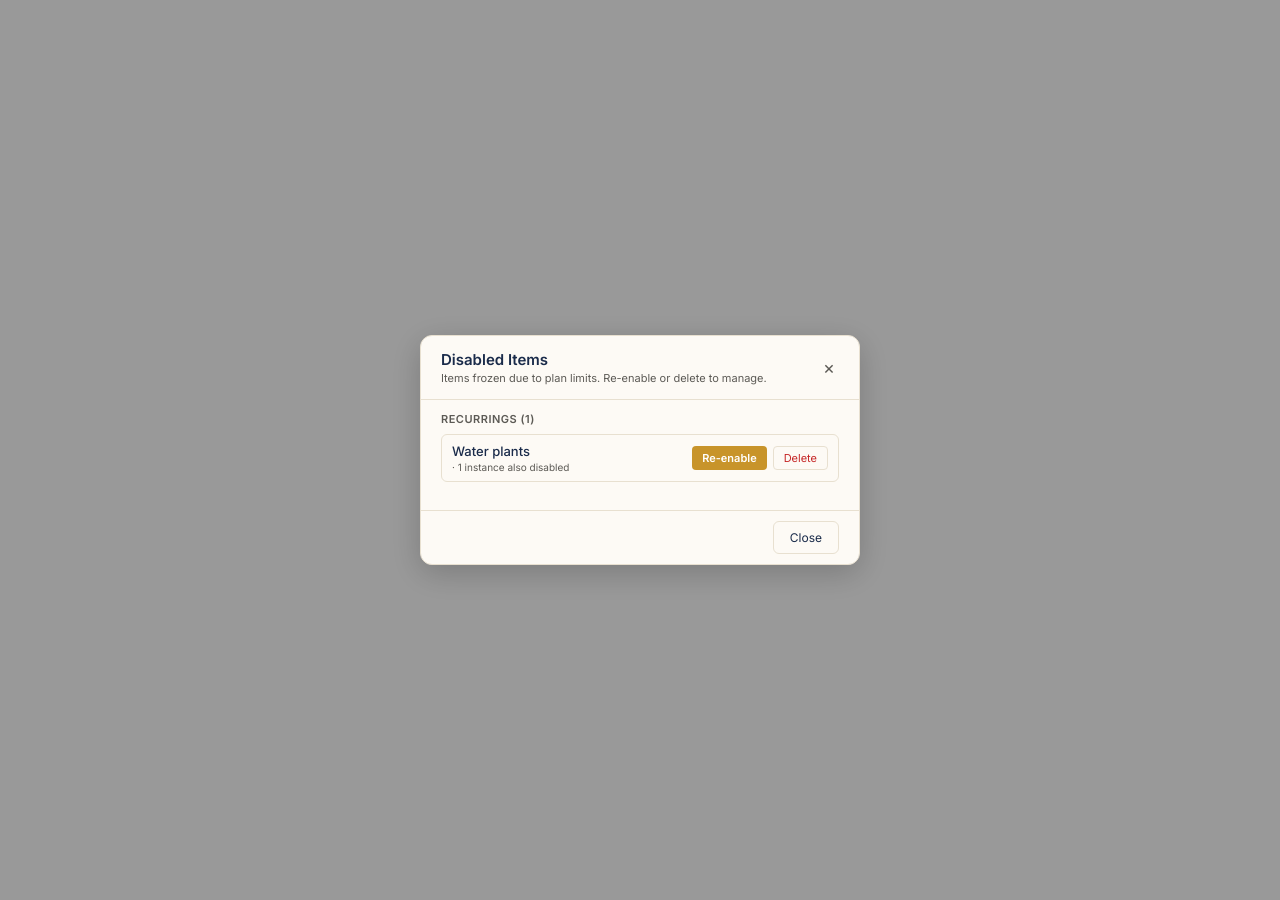
Scenario: DisabledItemsPanel › deletes a recurring template with ?cascade=recurring
The image size is (1280, 900).
Check: the text "Recurrings (1)" is shown, box [441,412,535,426]
Click the button "Delete".
click(800, 458)  # box [773,446,828,470]
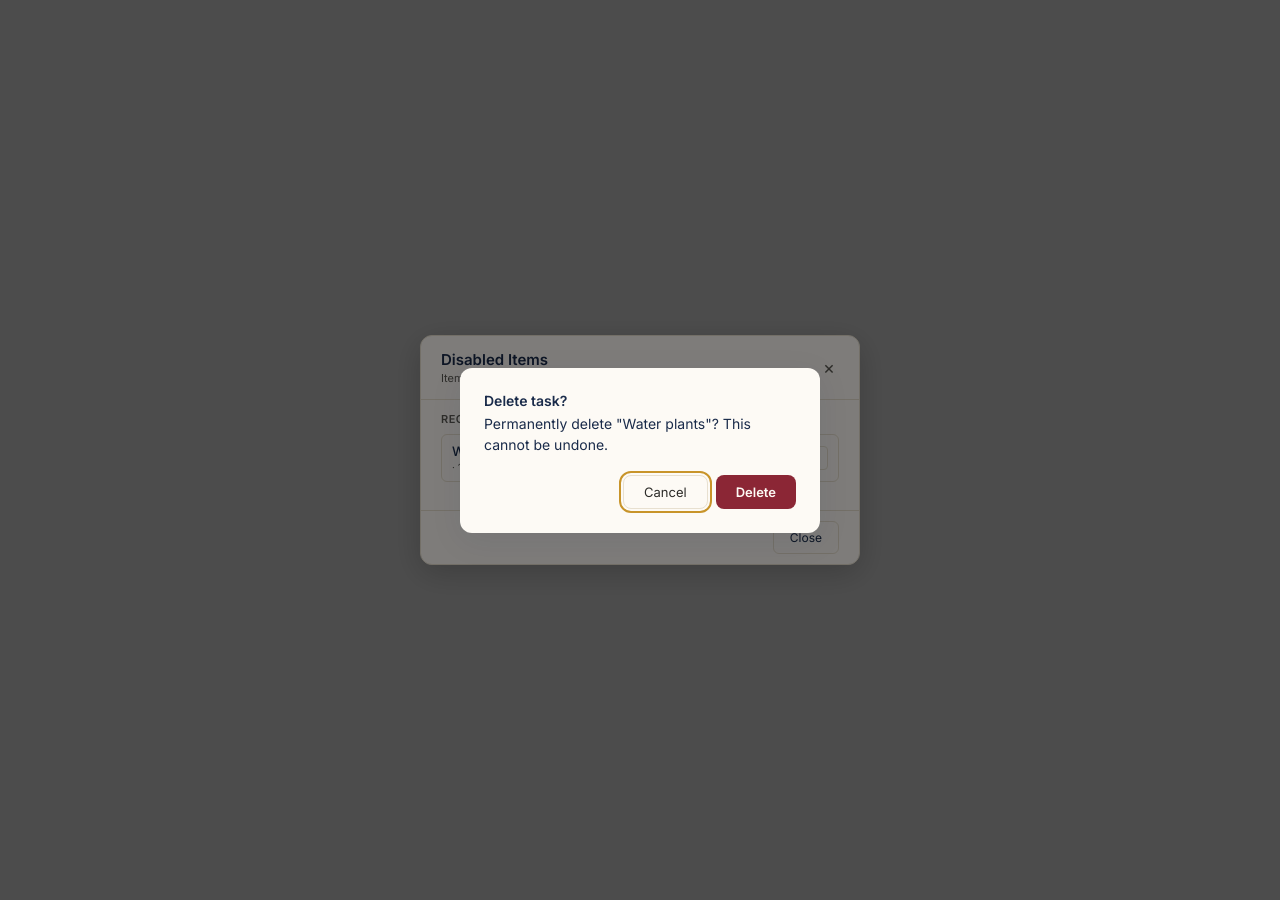
Click the button "Delete".
click(756, 492)  # box [716,474,796,508]
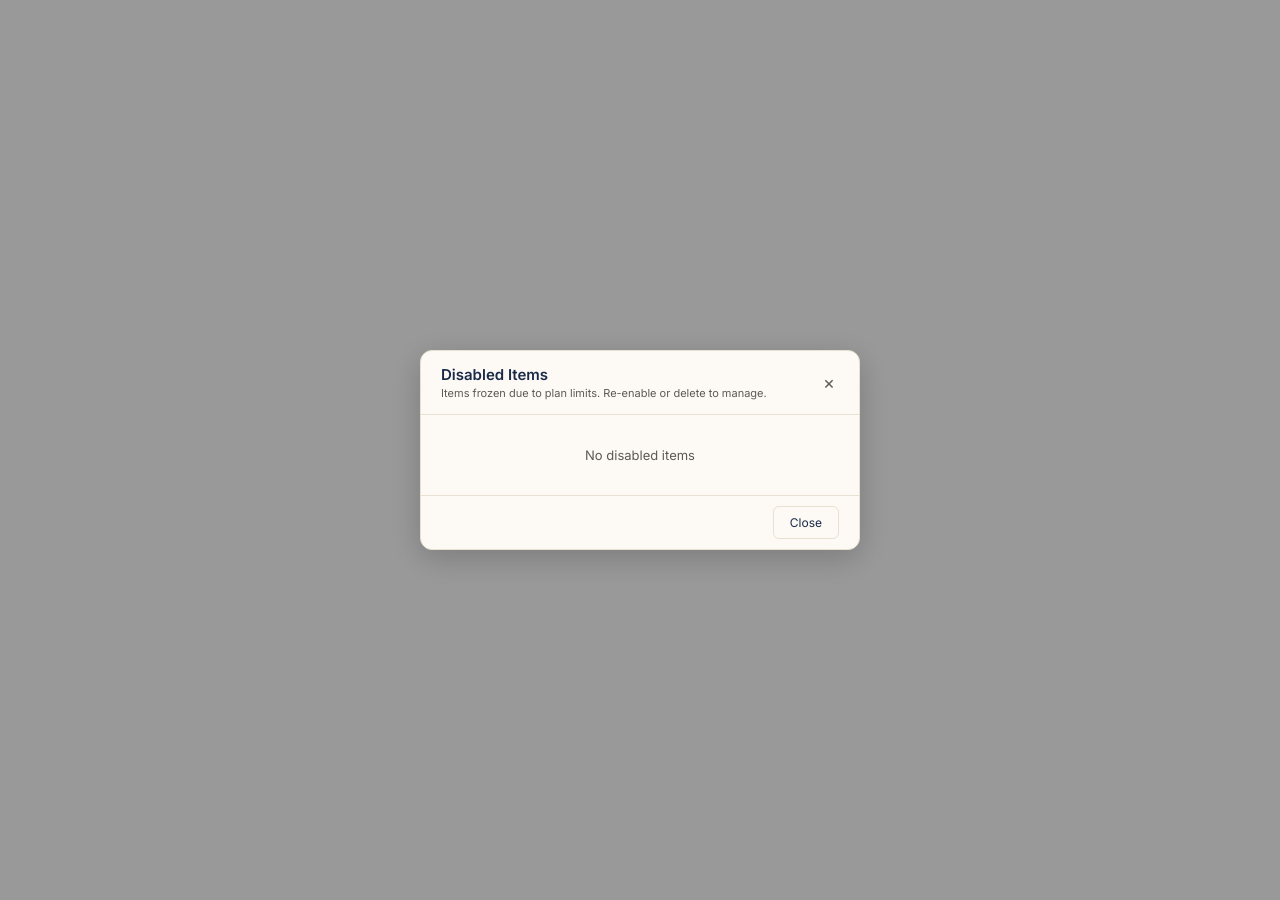
Check: the text "Water plants" is gone
Check: the text "No disabled items" is shown, box [585,447,695,463]
